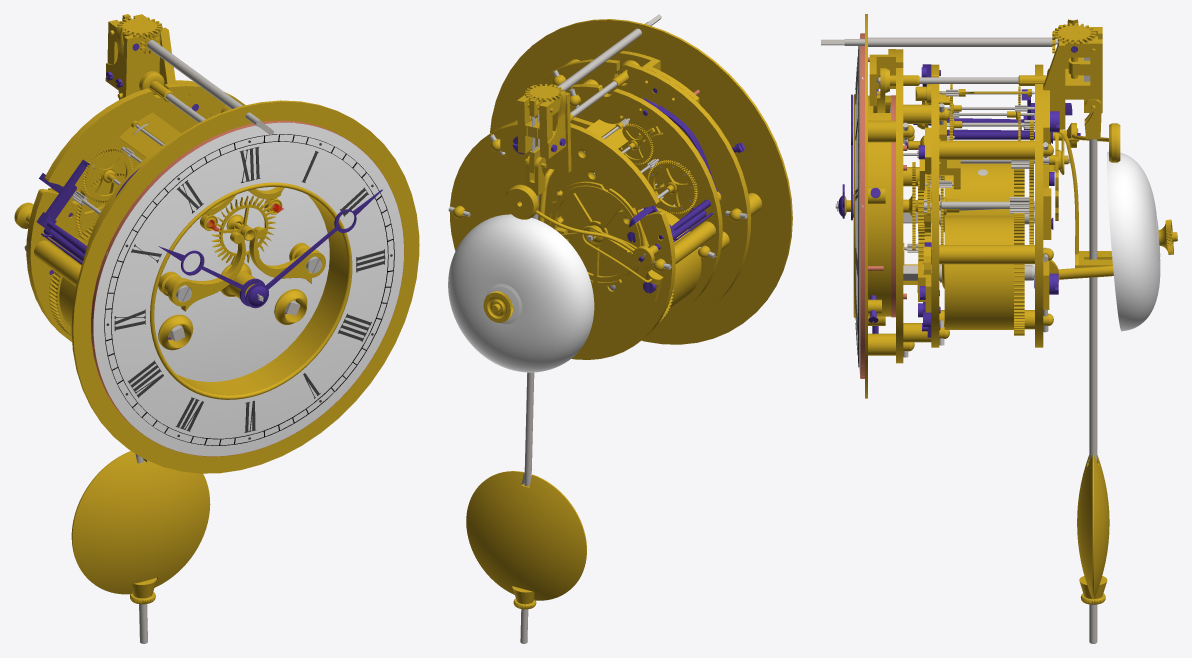
File: Pendule-Paris-Brocot.glb
The picture shows the model from 3 angles, left to right: view 1: azimuth 30°, elevation 25°; view 2: azimuth 150°, elevation 25°; view 3: azimuth 270°, elevation 25°; orthographic projection. The views are drawn at different scales.
Parts seen in each view (by area): view 1: Plaque émaillée avant-1 - Part, Platine Finale-1 - Part, Plaque émaillée-1 - Part, Extérieur poids balancier-1 - Part, Platine arrière-1 - Part, Anneau avant-1 - Part, Pont roue d_ech-1 - Part, Body 3 - Part, Pont fourchette-1 2 - Part, Plaque de cuivre avant-1 - Part, Aileron de volant-1 - Part, Roue d_ech-1 - Part (+14 smaller); view 2: Platine Finale-1 - Part, Platine arrière-1 - Part, Timbre-1 - Part, Extérieur poids balancier-1 - Part, Platine porte cadran-1 - Part, Platine avant-1 - Part, Roue de chaperon-1 - Part, Suspension-1 - Part, Pont fourchette-1 2 - Part, Couronne roue de cheville-1 - Part, Corps de barillet (S)-1 - Part, Tige balancier-1 - Part 2 (+11 smaller); view 3: Timbre-1 - Part, Corps de barillet-1 - Part, Anneau avant-1 - Part, Extérieur poids balancier-1 - Part, Tige balancier-1 - Part 2, Corps de barillet (S)-1 - Part, Platine porte cadran-1 - Part, Platine avant-1 - Part, Platine arrière-1 - Part, arbre suspension-1 - Part, Pilier-1 - Part, Pilier-4 - Part (+23 smaller).
Boxes of the visible parts, bbox=[...] form: Plaque émaillée avant-1 - Part: bbox=[93, 122, 403, 456]; Platine Finale-1 - Part: bbox=[71, 100, 419, 473]; Plaque émaillée-1 - Part: bbox=[154, 187, 329, 381]; Extérieur poids balancier-1 - Part: bbox=[71, 451, 210, 594]; Platine arrière-1 - Part: bbox=[26, 83, 245, 341]; Anneau avant-1 - Part: bbox=[150, 182, 352, 399]; Pont roue d_ech-1 - Part: bbox=[168, 226, 325, 311]; Body 3 - Part: bbox=[104, 134, 394, 445]; Pont fourchette-1 2 - Part: bbox=[122, 27, 196, 97]; Plaque de cuivre avant-1 - Part: bbox=[91, 120, 404, 456]; Aileron de volant-1 - Part: bbox=[119, 112, 180, 157]; Roue d_ech-1 - Part: bbox=[211, 196, 275, 264]; Platine Finale-1 - Part: bbox=[490, 19, 792, 344]; Platine arrière-1 - Part: bbox=[450, 119, 675, 359]; Timbre-1 - Part: bbox=[448, 214, 594, 372]; Extérieur poids balancier-1 - Part: bbox=[466, 471, 586, 600]; Platine porte cadran-1 - Part: bbox=[507, 59, 751, 326]; Platine avant-1 - Part: bbox=[514, 84, 722, 320]; Roue de chaperon-1 - Part: bbox=[547, 181, 644, 285]; Suspension-1 - Part: bbox=[517, 95, 560, 158]; Pont fourchette-1 2 - Part: bbox=[500, 85, 571, 172]; Couronne roue de cheville-1 - Part: bbox=[647, 160, 697, 214]; Corps de barillet (S)-1 - Part: bbox=[646, 207, 701, 308]; Tige balancier-1 - Part 2: bbox=[520, 195, 538, 643]; Timbre-1 - Part: bbox=[1107, 151, 1160, 331]; Corps de barillet-1 - Part: bbox=[944, 215, 1013, 329]; Anneau avant-1 - Part: bbox=[853, 94, 891, 318]; Extérieur poids balancier-1 - Part: bbox=[1077, 455, 1109, 599]; Tige balancier-1 - Part 2: bbox=[1089, 139, 1097, 643]; Corps de barillet (S)-1 - Part: bbox=[944, 163, 1013, 215]; Platine porte cadran-1 - Part: bbox=[896, 49, 903, 363]; Platine avant-1 - Part: bbox=[931, 64, 939, 347]; Platine arrière-1 - Part: bbox=[1035, 64, 1043, 347]; arbre suspension-1 - Part: bbox=[821, 37, 1058, 46]; Pilier-1 - Part: bbox=[939, 140, 1053, 159]; Pilier-4 - Part: bbox=[939, 245, 1053, 264].
Bounding box in the file's own units: 0.123 × 0.2141 × 0.114.
